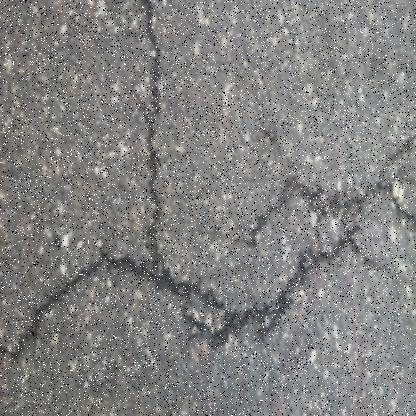Cracks: (0, 235, 380, 369), (234, 132, 416, 249), (139, 1, 168, 291)
